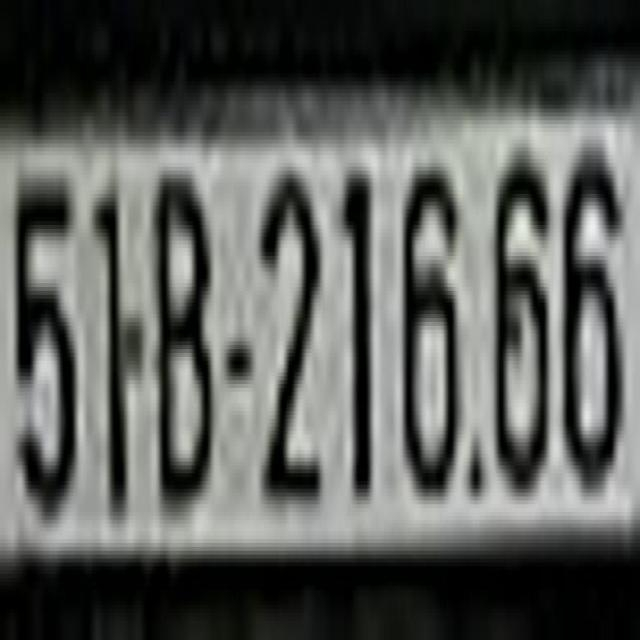1: (92, 159, 130, 516), (340, 143, 374, 520)
2: (260, 159, 328, 528)
5: (13, 156, 78, 532)
6: (562, 120, 624, 504), (494, 132, 550, 504), (402, 163, 457, 512)
B: (152, 151, 212, 512)
